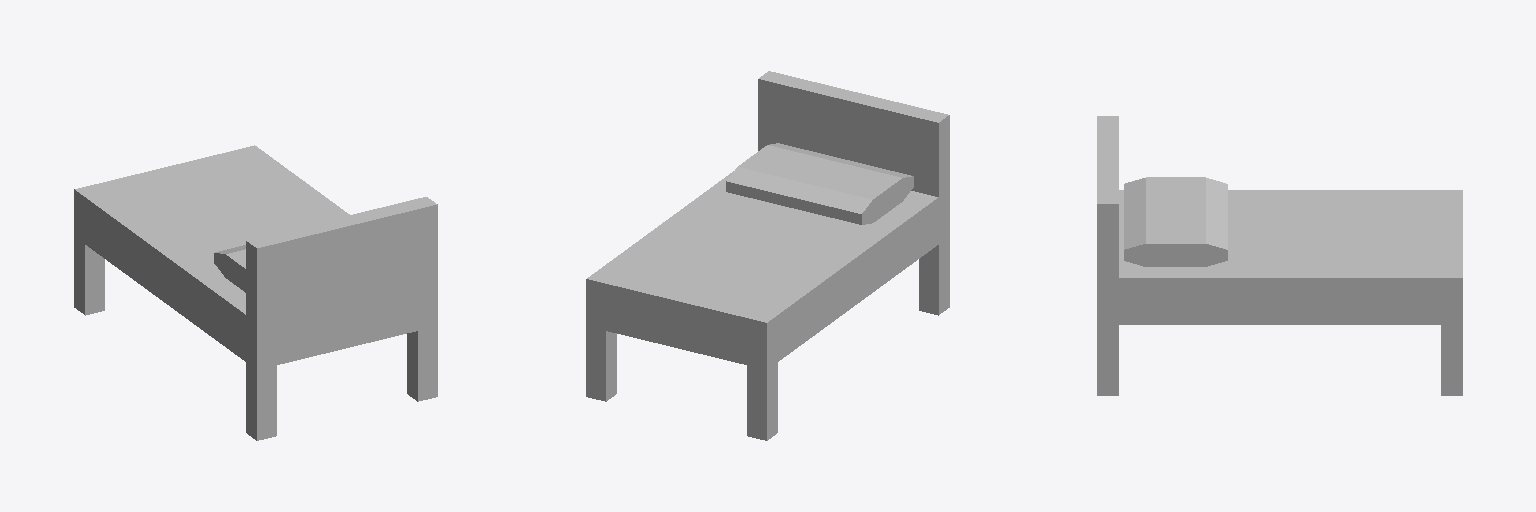
Rendered from bed.obj.
The picture shows the model from 3 angles: view 1: azimuth 30°, elevation 25°; view 2: azimuth 150°, elevation 25°; view 3: azimuth 270°, elevation 25°; orthographic projection.
Visible parts, largest first — view 1: pCube15 group1; view 2: pCube15 group1; view 3: pCube15 group1.
Part boxes in pixels (left/top/right/bottom): pCube15 group1: left=74, top=145, right=437, bottom=440; pCube15 group1: left=586, top=71, right=949, bottom=440; pCube15 group1: left=1097, top=116, right=1462, bottom=395.
Size of the model in its own units: 7 by 7.13 by 12.25.